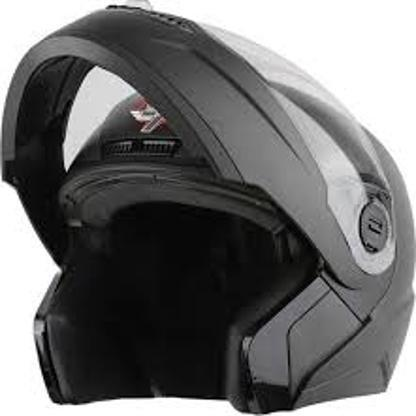not trash: (1, 6, 411, 411)
